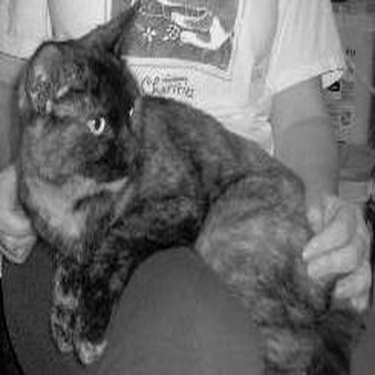cat: (7, 8, 347, 363)
